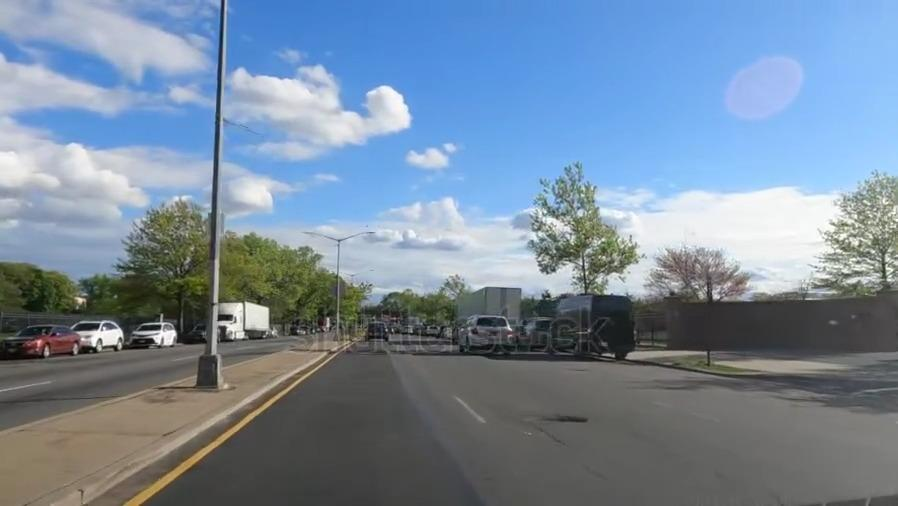car: (2, 322, 80, 362), (457, 314, 515, 354), (72, 319, 125, 352), (126, 319, 176, 348), (516, 317, 549, 347), (184, 322, 219, 343), (365, 320, 388, 343)
pothole: (524, 406, 599, 432)
truck: (446, 291, 523, 326), (213, 299, 270, 344)
van: (546, 294, 639, 357)
